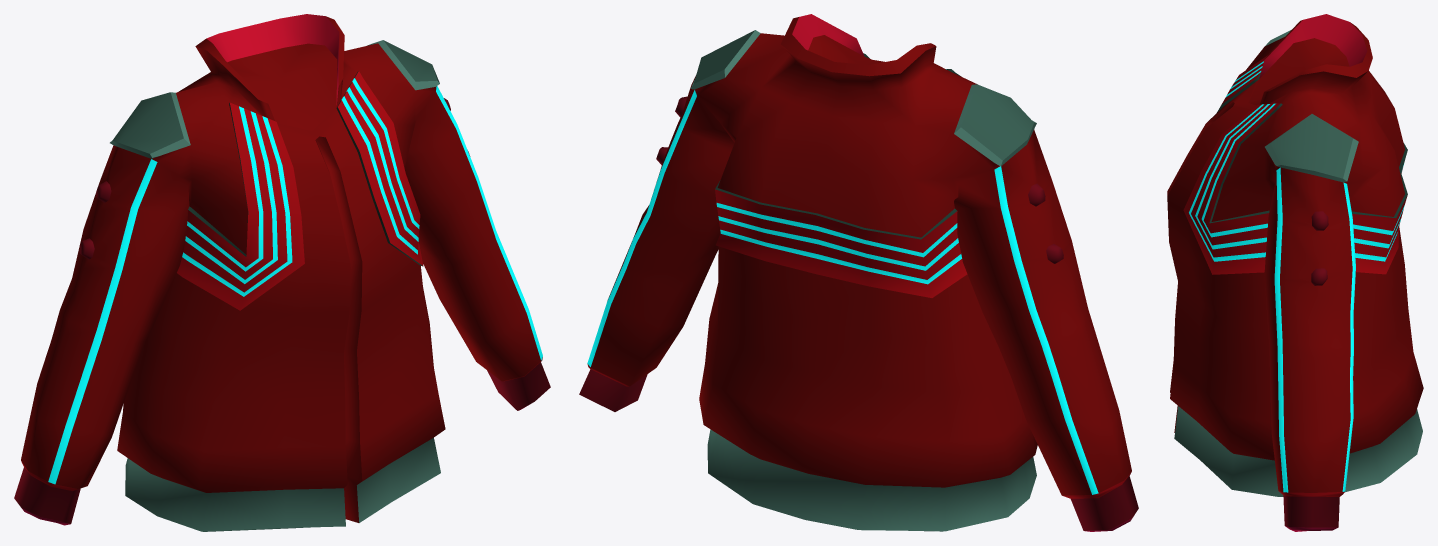
Rendered from M_uBody_CyberPunkJacket.glb.
The picture shows the model from 3 angles, left to right: view 1: azimuth 30°, elevation 25°; view 2: azimuth 150°, elevation 25°; view 3: azimuth 270°, elevation 25°; orthographic projection. The views are drawn at different scales.
Visible parts, largest first — view 1: M_uBody_CyberPunkJacket; view 2: M_uBody_CyberPunkJacket; view 3: M_uBody_CyberPunkJacket.
Part boxes in pixels (box(x1,y1,x2,y2)): M_uBody_CyberPunkJacket: box(14, 14, 550, 531); M_uBody_CyberPunkJacket: box(579, 14, 1138, 531); M_uBody_CyberPunkJacket: box(1167, 14, 1423, 531).
Size of what is drawn, in the model's own units: 1.99 by 1.58 by 0.9206.
1 material, 1 textured.
